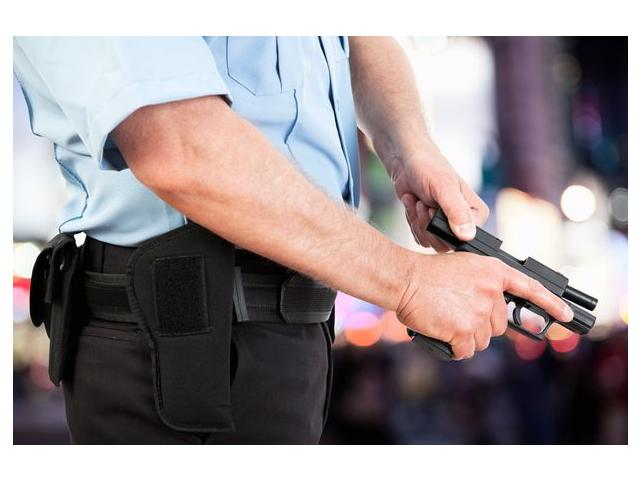pistol: (420, 193, 599, 371)
